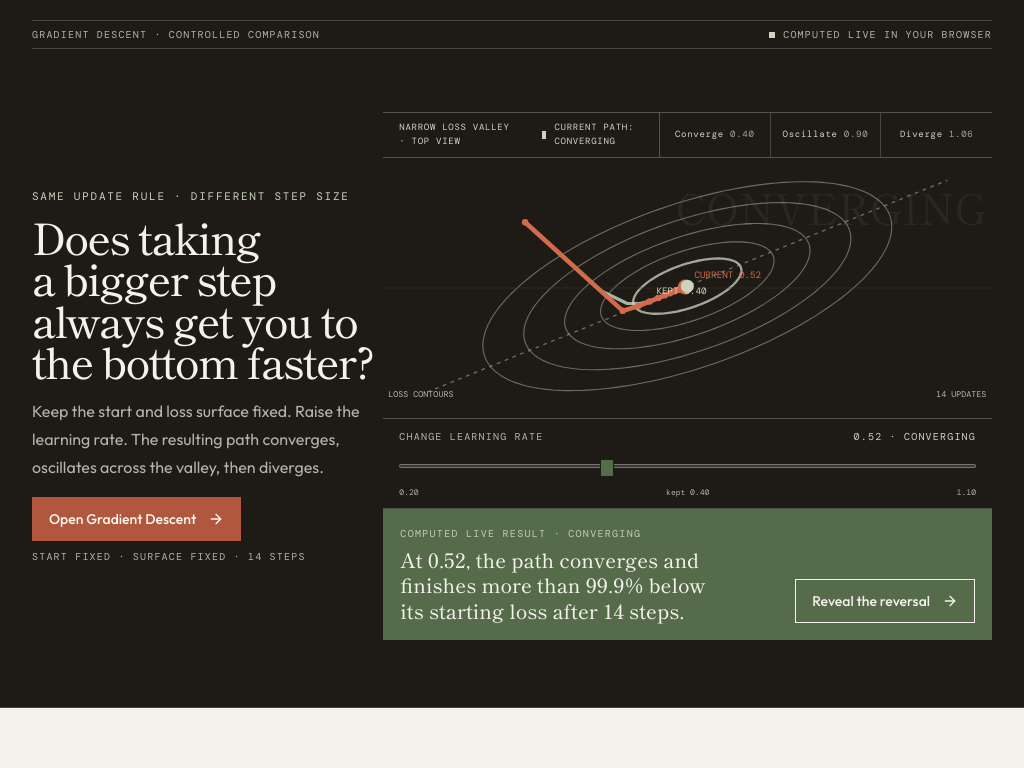
Test case: GradientDescentProof › uses the flagship model to expose oscillation and divergence
Expected: the text "0.52 · converging" is shown, [854, 429, 976, 444]
Set the slider named "Homepage learning rate" to "0.90": coordinates (843, 466) [399, 448, 976, 484]
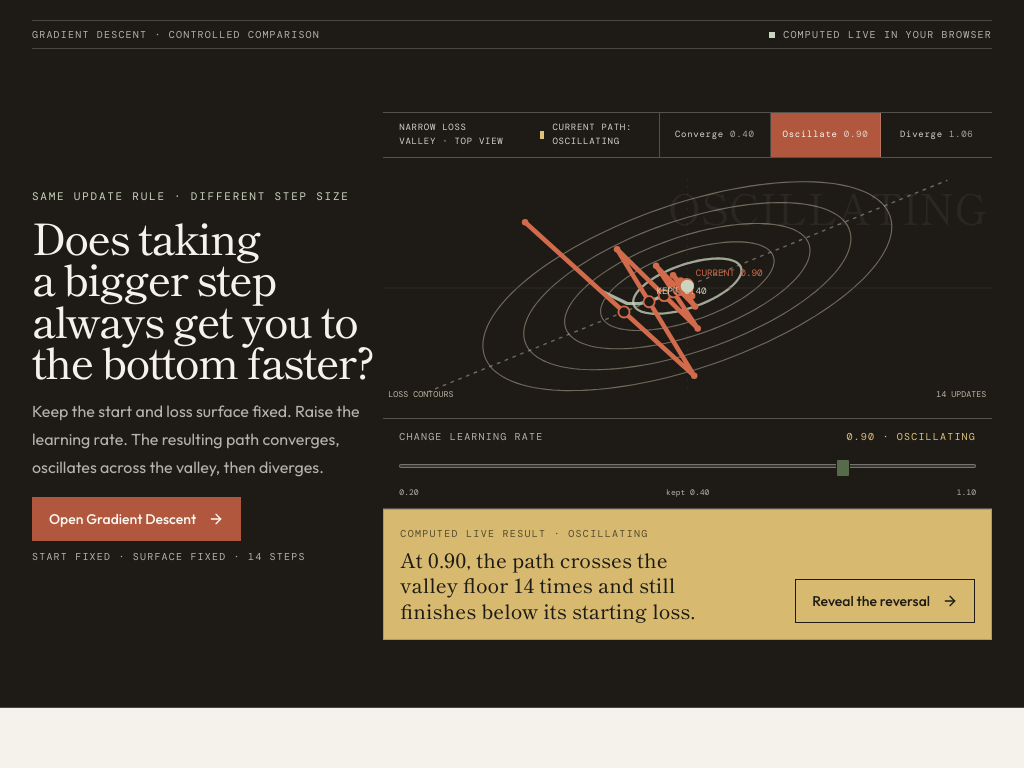
Now the text "0.90 · oscillating" is shown, box [846, 429, 976, 444]
Set the slider named "Homepage learning rate" to "1.06": coordinates (943, 466) [399, 448, 976, 484]
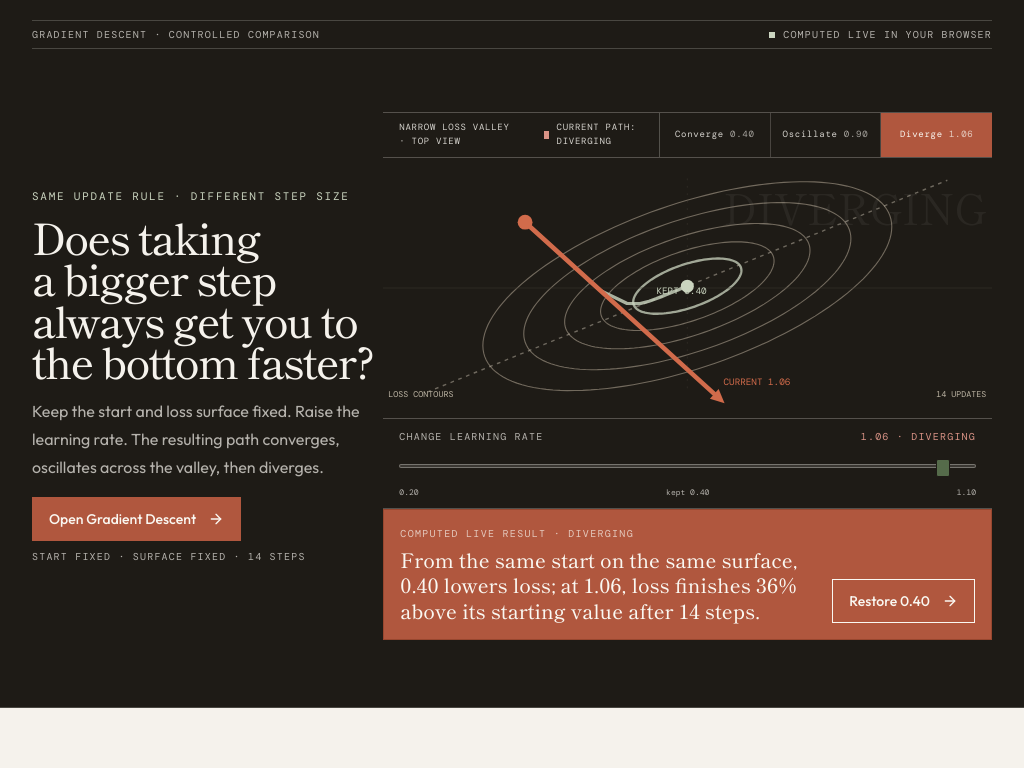
Now the text "1.06 · diverging" is shown, box [861, 429, 976, 444]
Now the heading "0.40 lowers loss; at 1.06, loss finishes" is shown, box [400, 545, 798, 625]
